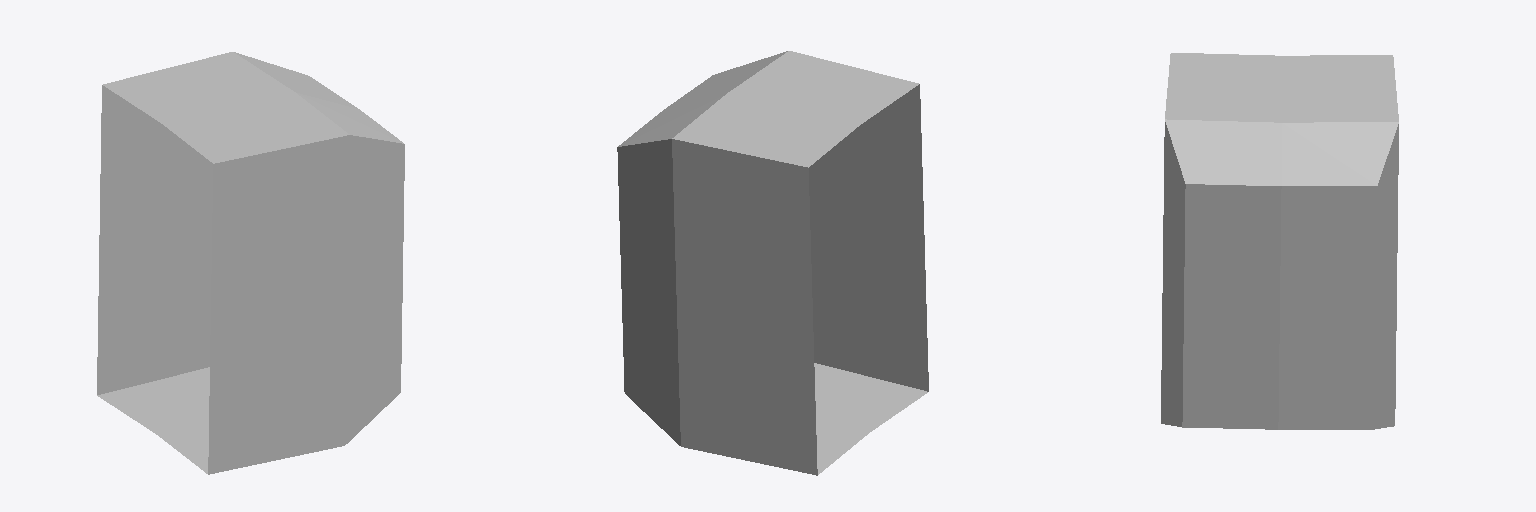
Rendered from gear-tooth.obj.
3 renders of one model, left to right at view 1: azimuth 30°, elevation 25°; view 2: azimuth 150°, elevation 25°; view 3: azimuth 270°, elevation 25°, orthographic.
Parts seen in each view (by area): view 1: Gear.001; view 2: Gear.001; view 3: Gear.001.
Boxes of the visible parts, <box> form: Gear.001: <box>97,52,404,474</box>; Gear.001: <box>617,51,928,475</box>; Gear.001: <box>1161,53,1398,429</box>.
Bounding box in the file's own units: 0.135 × 0.1926 × 0.1335.